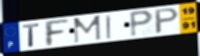F: (43, 19, 71, 48)
I: (105, 14, 113, 40)
M: (73, 14, 103, 45)
P: (128, 9, 155, 39), (154, 7, 181, 35)
T: (21, 22, 41, 48)
